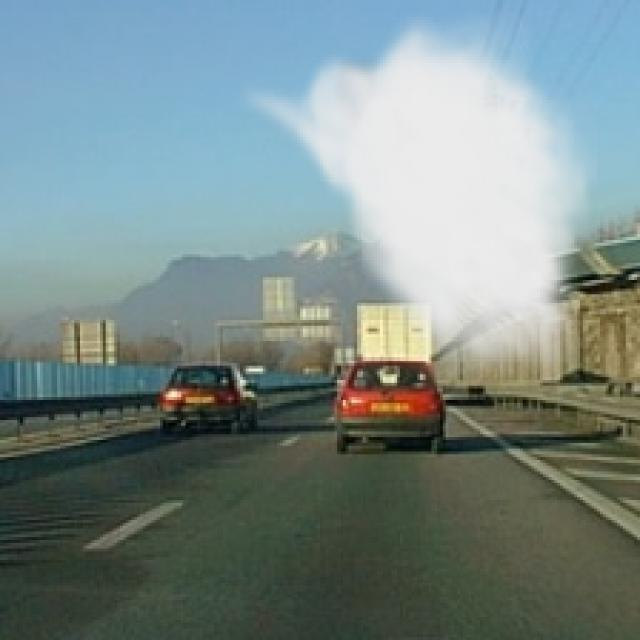smoke: (234, 9, 600, 400)
